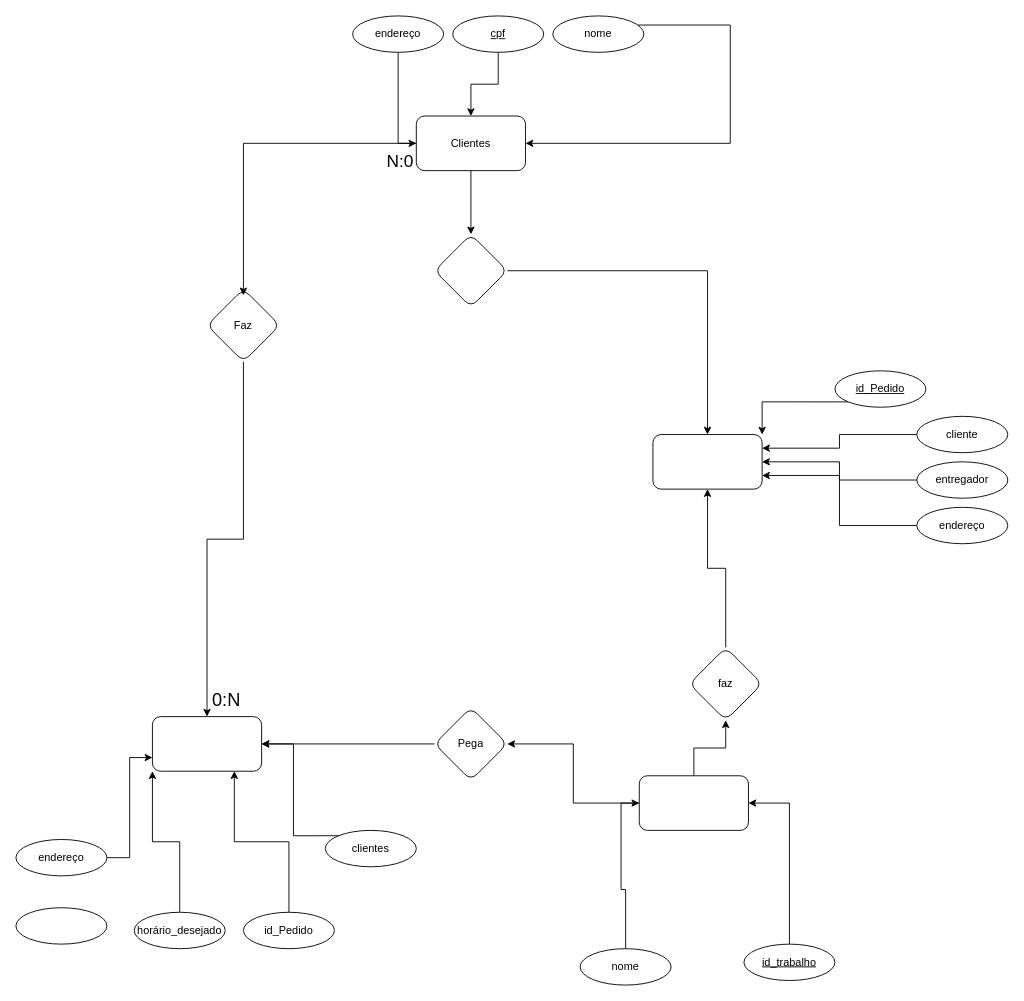
This 1024x1001 diagram has some shape labels left out. The shapes that lost their labels are listed below. From the top down, each one's box as (x1, y1, x2, y2) in pixels, then its label:
(434, 233, 507, 307): recebe
(652, 434, 762, 489): Entrega
(152, 716, 262, 771): Pedidos
(638, 775, 748, 830): Entregadores
(15, 907, 107, 944): horário_Pedido
